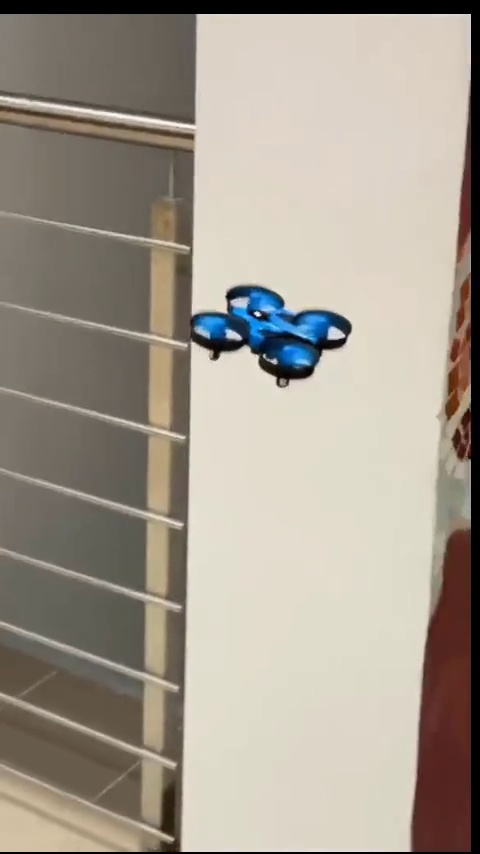drone: (188, 287, 358, 389)
